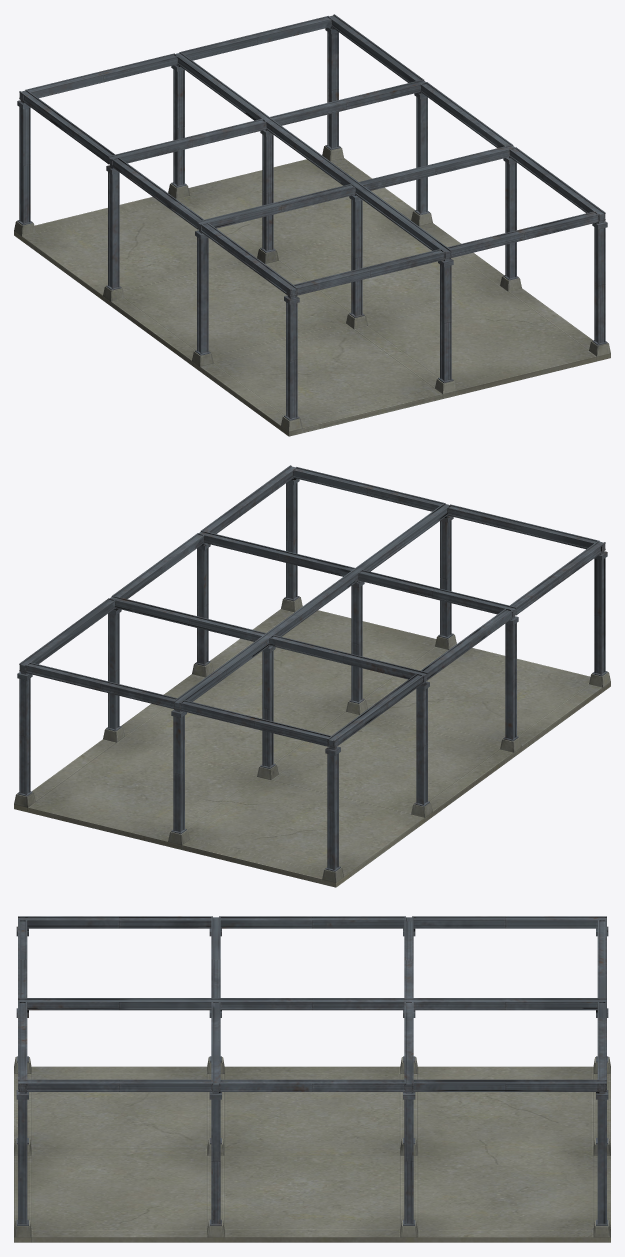
Rendered from construction_prop.glb.
3 renders of one model, top to bottom at view 1: azimuth 30°, elevation 25°; view 2: azimuth 150°, elevation 25°; view 3: azimuth 270°, elevation 25°, orthographic. The views are drawn at different scales.
Parts seen in each view (by area): view 1: Object_2, Object_3; view 2: Object_2, Object_3; view 3: Object_2, Object_3.
Boxes of the visible parts, bbox=[...] form: Object_2: bbox=[14, 146, 610, 436]; Object_3: bbox=[17, 14, 607, 420]; Object_2: bbox=[14, 597, 610, 887]; Object_3: bbox=[17, 465, 607, 871]; Object_2: bbox=[14, 1057, 610, 1242]; Object_3: bbox=[16, 916, 608, 1225].
Size of the model in its own units: 8.92 by 3.83 by 13.19.
Materials: 1 (1 with a texture image).
